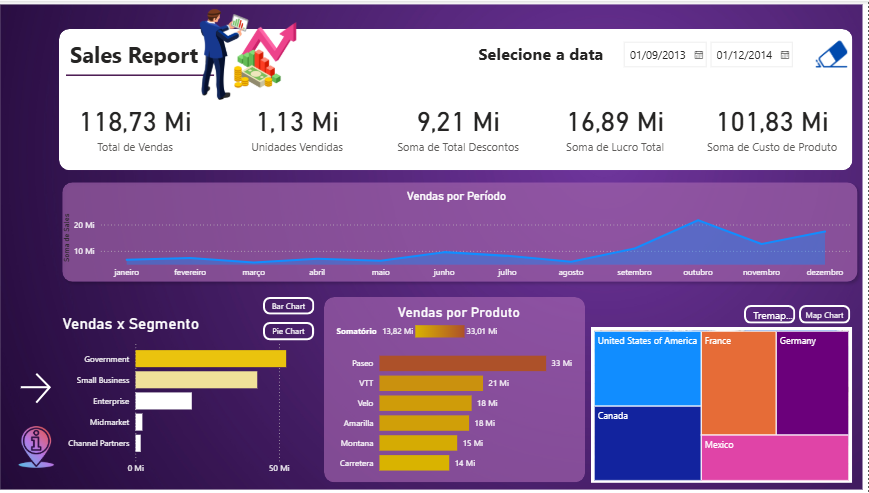

The page's visual inventory and layout, read from the dashboard file:
{"tool":"powerbi","page":{"name":"Principal","canvas":[1280,720],"ordinal":1},"visuals":[{"type":"image","title":"fundo_purple","box":[0,0,1280.3,720],"z":0},{"type":"shape","box":[95.8,41.1,1161.3,206.6],"z":0,"group":"g4"},{"type":"shape","box":[90.5,255.5,1181.8,163.7],"z":0,"group":"g3"},{"type":"map","title":"Sales x Country","fields":{"Category":["financials.Country"],"Size":["Sum(financials. Sales)"]},"box":[873.8,476.1,382,228.1],"z":0,"group":"g1"},{"type":"shape","box":[105.6,92.3,216.7,32.8],"z":1000,"group":"g4"},{"type":"areaChart","title":"Vendas por Período","fields":{"Category":["financials.Date.Variation.Hierarquia de datas.Trimestre","financials.Date.Variation.Hierarquia de datas.Mês"],"Y":["Sum(financials. Sales)"]},"box":[94.3,274.7,1163.2,139.7],"z":1000,"group":"g3"},{"type":"clusteredBarChart","title":"Vendas x Segmento","fields":{"Category":["financials.Segment"],"Y":["Sum(financials. Sales)"]},"box":[94.9,459.3,383.9,242.3],"z":1000,"group":"g2"},{"type":"treemap","title":"Sales x Country","fields":{"Group":["financials.Country"],"Values":["Sum(financials. Sales)"]},"box":[873.8,477.5,382,228.1],"z":1000,"group":"g1"},{"type":"actionButton","title":"Botão - Next","box":[32.4,539.2,58,56.3],"z":1000},{"type":"slicer","fields":{"Values":["financials.Date"]},"box":[909.9,50.5,272.2,55.6],"z":2000,"group":"g4"},{"type":"actionButton","title":"Botão - bar","box":[393.4,432.9,75.1,25.6],"z":2000,"group":"g2"},{"type":"shape","box":[482.9,433.4,382.2,271.3],"z":2000},{"type":"actionButton","title":"Botão - map","box":[1177.5,444.2,75.1,27.3],"z":2000,"group":"g1"},{"type":"textbox","box":[704.6,56.2,199.6,45.6],"z":3000,"group":"g4"},{"type":"group","id":"g1","title":"Sales x país","box":[873.8,444.2,382,261.4],"z":3000},{"type":"actionButton","title":"Botão - tremap","box":[1097.3,444.2,75.1,27.3],"z":3000,"group":"g1"},{"type":"actionButton","title":"Botão -pie","box":[393.2,469.1,74.8,26.6],"z":3000,"group":"g2"},{"type":"card","fields":{"Values":["Sum(financials.Units Sold)"]},"box":[338.3,130.3,211,105.5],"z":4000,"group":"g4"},{"type":"clusteredBarChart","title":"Vendas por Produto","fields":{"Y":["Sum(financials. Sales)"],"Category":["financials.Product"]},"box":[496.5,443.6,368.5,261.1],"z":4000},{"type":"textbox","box":[107,50.9,215.2,48.5],"z":5000,"group":"g4"},{"type":"group","id":"g2","title":"Sales x Segmento","box":[94.9,429.7,387.6,271.8],"z":5000},{"type":"actionButton","box":[1196.4,54.7,59.9,51.3],"z":6000,"group":"g4"},{"type":"group","id":"g3","title":"Perspectiva temporal das vendas","box":[90.5,255.5,1181.8,163.7],"z":6000},{"type":"group","id":"g4","title":"Filtro por data","box":[95.8,0,1161.8,247.5],"z":7000},{"type":"card","fields":{"Values":["Sum(financials.Profit)"]},"box":[804.4,130.3,211,105.5],"z":7000,"group":"g4"},{"type":"image","title":"clean","box":[1196.4,50.5,59.9,55.6],"z":8000,"group":"g4"},{"type":"image","box":[26.1,615.8,71.5,72.9],"z":8000},{"type":"card","fields":{"Values":["Sum(financials.Discounts)"]},"box":[574.9,130.3,211,105.5],"z":9000,"group":"g4"},{"type":"actionButton","box":[31.6,615.8,63.2,72.9],"z":9000},{"type":"card","fields":{"Values":["Sum(financials.COGS)"]},"box":[1033.9,130.3,211,105.5],"z":10000,"group":"g4"},{"type":"card","fields":{"Values":["Sum(financials. Sales)"]},"box":[101.7,130.3,211,105.5],"z":11000,"group":"g4"},{"type":"image","box":[265.1,0,252.9,155.7],"z":12000,"group":"g4"}]}

Visuals, with their boxes in screenshot pixels (x1, y1, x2, y2), scaled from the page's 1280x720 canvas onto the 869x493 screenshot:
"fundo_purple" image: (x1=0, y1=0, x2=868, y2=492)
shape: (x1=65, y1=28, x2=853, y2=170)
shape: (x1=61, y1=175, x2=864, y2=287)
"Sales x Country" map: (x1=593, y1=326, x2=853, y2=482)
shape: (x1=72, y1=63, x2=219, y2=86)
"Vendas por Período" areaChart: (x1=64, y1=188, x2=854, y2=284)
"Vendas x Segmento" clusteredBarChart: (x1=64, y1=314, x2=325, y2=480)
"Sales x Country" treemap: (x1=593, y1=327, x2=853, y2=483)
"Botão - Next" actionButton: (x1=22, y1=369, x2=61, y2=408)
slicer - financials.Date: (x1=618, y1=35, x2=803, y2=73)
"Botão - bar" actionButton: (x1=267, y1=296, x2=318, y2=314)
shape: (x1=328, y1=297, x2=587, y2=483)
"Botão - map" actionButton: (x1=799, y1=304, x2=850, y2=323)
textbox: (x1=478, y1=38, x2=614, y2=70)
"Sales x país" group: (x1=593, y1=304, x2=853, y2=483)
"Botão - tremap" actionButton: (x1=745, y1=304, x2=796, y2=323)
"Botão -pie" actionButton: (x1=267, y1=321, x2=318, y2=339)
card - Sum(financials.Units Sold): (x1=230, y1=89, x2=373, y2=161)
"Vendas por Produto" clusteredBarChart: (x1=337, y1=304, x2=587, y2=483)
textbox: (x1=73, y1=35, x2=219, y2=68)
"Sales x Segmento" group: (x1=64, y1=294, x2=328, y2=480)
actionButton: (x1=812, y1=37, x2=853, y2=73)
"Perspectiva temporal das vendas" group: (x1=61, y1=175, x2=864, y2=287)
"Filtro por data" group: (x1=65, y1=0, x2=854, y2=169)
card - Sum(financials.Profit): (x1=546, y1=89, x2=689, y2=161)
"clean" image: (x1=812, y1=35, x2=853, y2=73)
image: (x1=18, y1=422, x2=66, y2=472)
card - Sum(financials.Discounts): (x1=390, y1=89, x2=534, y2=161)
actionButton: (x1=21, y1=422, x2=64, y2=472)
card - Sum(financials.COGS): (x1=702, y1=89, x2=845, y2=161)
card - Sum(financials. Sales): (x1=69, y1=89, x2=212, y2=161)
image: (x1=180, y1=0, x2=352, y2=107)
